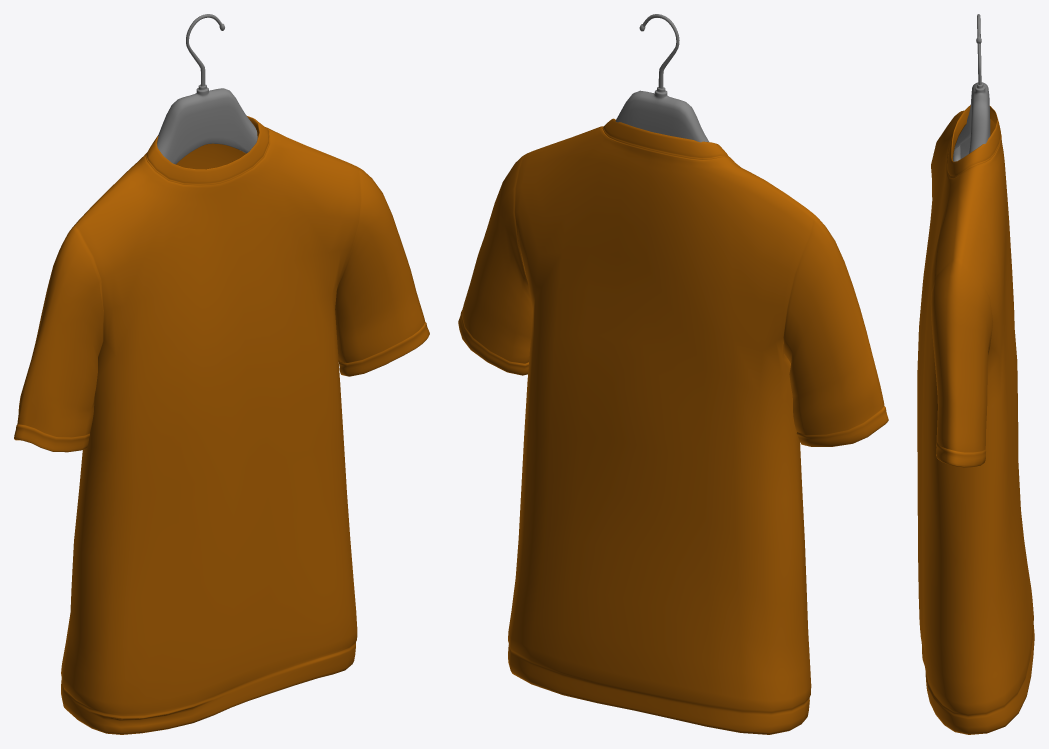
The model's file is Camiseta naranja colgada.glb.
3 renders of one model, left to right at view 1: azimuth 30°, elevation 25°; view 2: azimuth 150°, elevation 25°; view 3: azimuth 270°, elevation 25°, orthographic. The views are drawn at different scales.
Parts seen in each view (by area): view 1: Armario_Camiseta naranja colgada; view 2: Armario_Camiseta naranja colgada; view 3: Armario_Camiseta naranja colgada.
Part boxes in pixels (x1,y1,x2,y2): Armario_Camiseta naranja colgada: (14, 14, 429, 734); Armario_Camiseta naranja colgada: (458, 14, 888, 734); Armario_Camiseta naranja colgada: (917, 14, 1034, 734).
Bounding box in the file's own units: 0.5095 × 0.7926 × 0.128.
